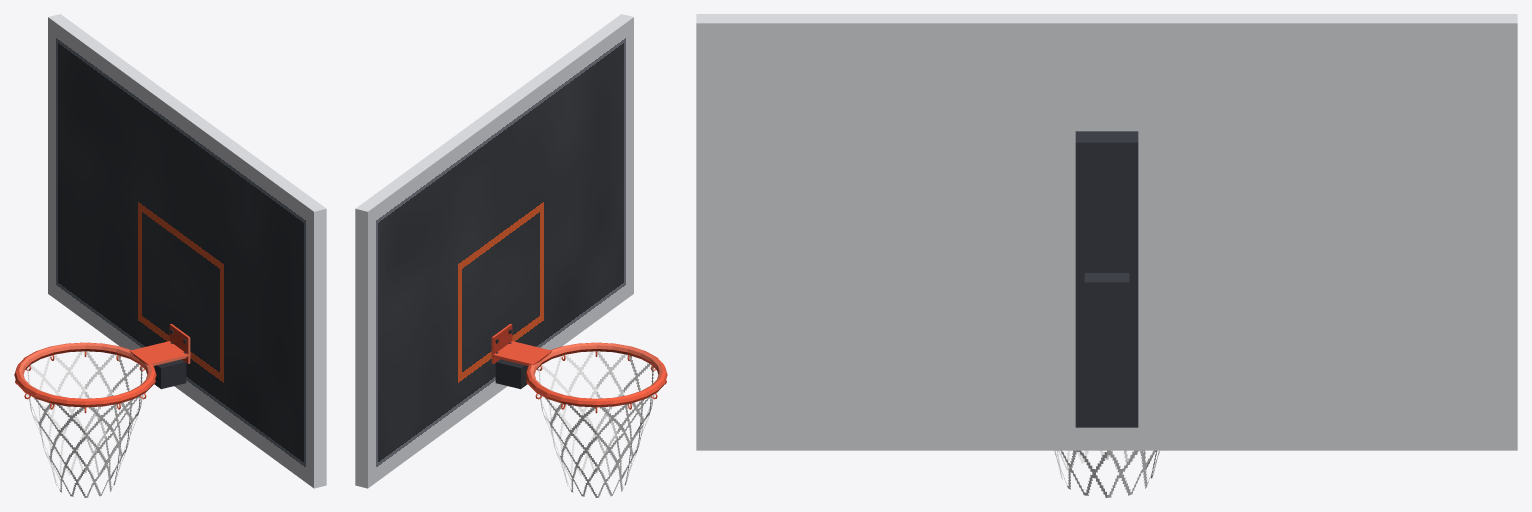
Rendered from hoop.glb.
The picture shows the model from 3 angles, left to right: view 1: azimuth 30°, elevation 25°; view 2: azimuth 150°, elevation 25°; view 3: azimuth 270°, elevation 25°; orthographic projection. The views are drawn at different scales.
Parts seen in each view (by area): view 1: Backboard, Net, Rim, NeckTongue, SpringBox, RimPlate; view 2: Backboard, Net, Rim, NeckTongue, SpringBox, RimPlate; view 3: Backboard, BoardYoke, Net, BoardArm.
Part boxes in pixels (x1,y1,x2,y2): Backboard: (48, 14, 326, 488); Net: (27, 351, 143, 497); Rim: (14, 342, 156, 407); NeckTongue: (129, 341, 190, 364); SpringBox: (153, 359, 186, 389); RimPlate: (169, 324, 190, 363); Backboard: (355, 14, 633, 488); Net: (538, 351, 655, 497); Rim: (525, 342, 667, 407); NeckTongue: (491, 341, 552, 364); SpringBox: (495, 359, 528, 389); RimPlate: (491, 324, 512, 363); Backboard: (696, 14, 1517, 450); BoardYoke: (1075, 131, 1138, 427); Net: (1054, 450, 1159, 497); BoardArm: (1084, 273, 1129, 306).
Bounding box in the file's own units: 0.9242 × 1.32 × 1.83.
Materials: 6 (3 with a texture image).
